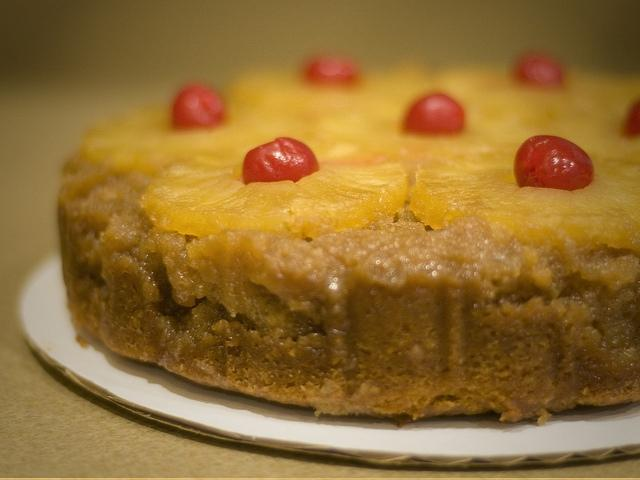cherry: (514, 135, 594, 191), (242, 136, 320, 185), (402, 92, 464, 134), (172, 81, 226, 129), (509, 51, 566, 92), (306, 56, 357, 87), (619, 96, 640, 136)
pineapple: (140, 139, 409, 239), (315, 108, 540, 189), (84, 101, 300, 177), (436, 68, 630, 123), (226, 68, 390, 118)
